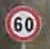limite 60: (3, 4, 42, 42)
